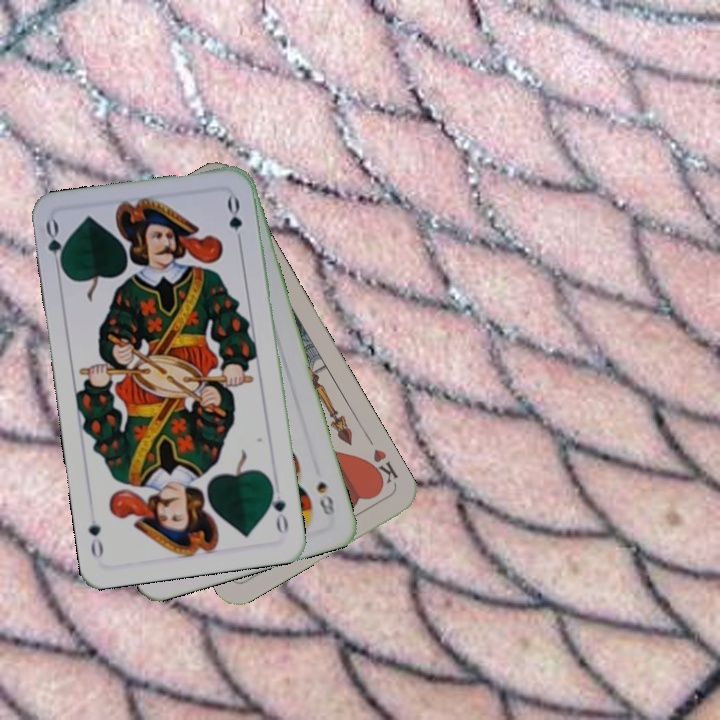GO: (41, 216, 69, 276), (265, 479, 291, 537)
HK: (362, 445, 401, 490)
S8: (312, 477, 338, 518)
